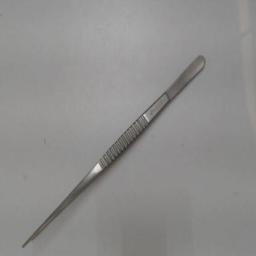DeBakey Dissector: (16, 46, 218, 252)
